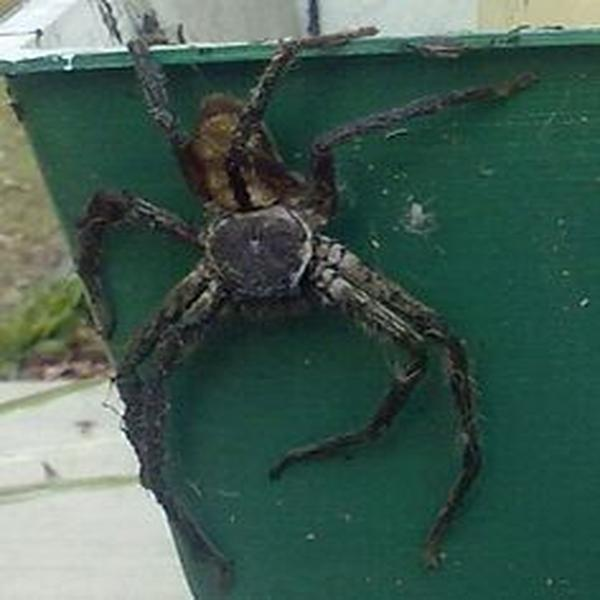Huntsman Spider: (99, 28, 520, 544)
